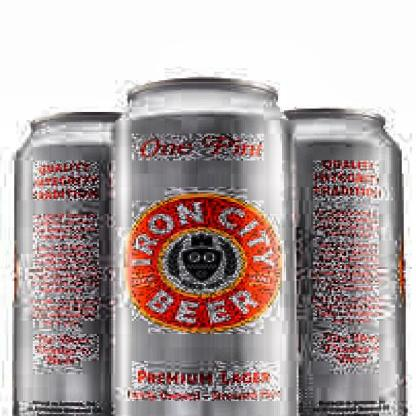Can: (106, 73, 302, 416), (276, 104, 416, 414), (11, 108, 126, 416)
